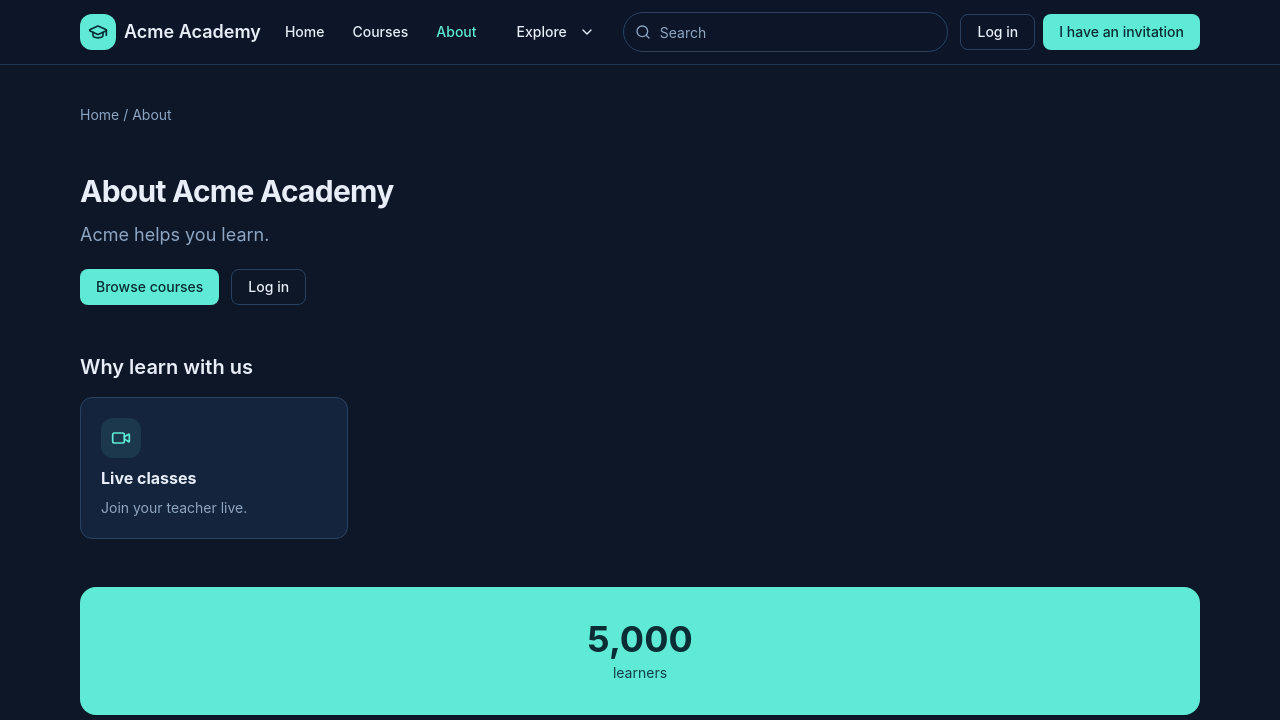
Scenario: the website › searching in the header from another page opens the catalog with that search
Expected: the navigation bar named "Main" is shown, top-left (285, 23), bottom-right (477, 40)
Expected: the heading "About Acme Academy" is shown, top-left (80, 173), bottom-right (394, 209)
Type "draw" into the search field named "Search courses" at (786,32), box top-left (623, 12), bottom-right (948, 52)
Then press Enter
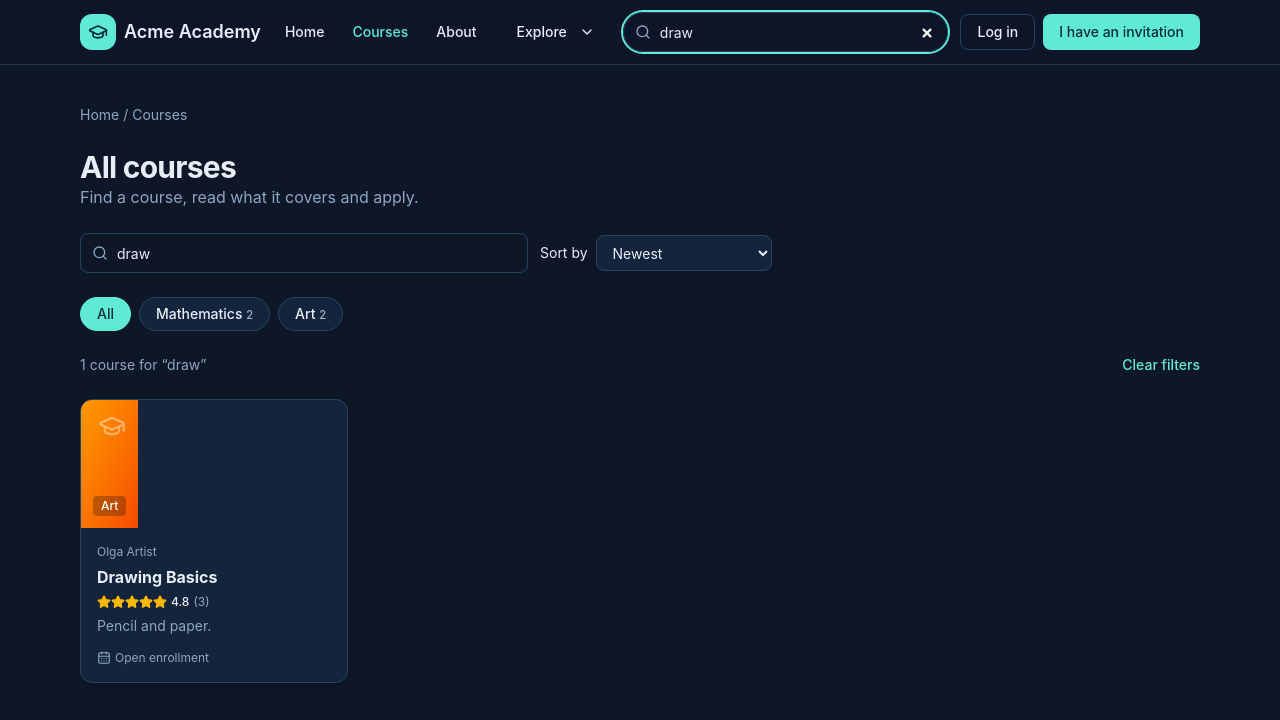
Expected: the heading "All courses" is shown, top-left (80, 149), bottom-right (236, 185)
Expected: the search field named "Search the catalog" holds "draw", top-left (80, 233), bottom-right (528, 273)
Expected: the message reads "1 course for “draw”", top-left (80, 355), bottom-right (206, 375)
